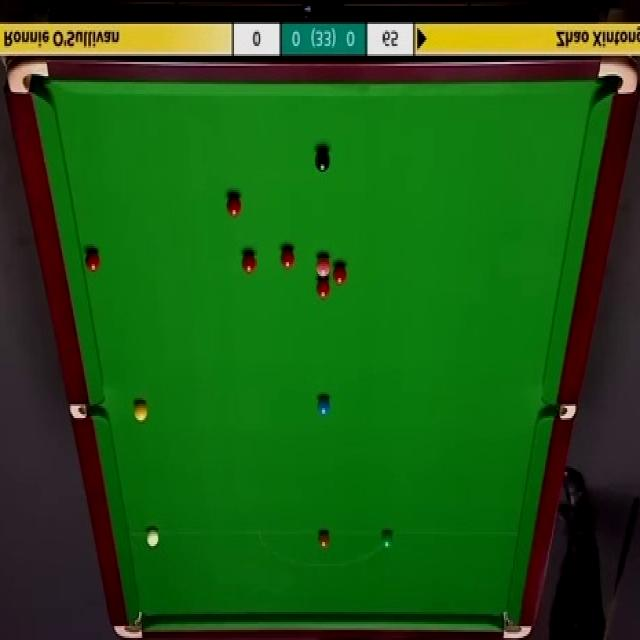black-ball: (314, 148, 332, 174)
blue-ball: (315, 396, 330, 416)
brown-ball: (318, 532, 330, 552)
green-ball: (380, 531, 393, 549)
pink-ball: (316, 252, 332, 280)
red-ball: (278, 247, 298, 270), (85, 247, 102, 274), (226, 192, 242, 218), (332, 262, 348, 286), (242, 250, 257, 274), (315, 279, 331, 300)
white-ball: (145, 525, 160, 548)
yellow-ball: (132, 398, 148, 427)
